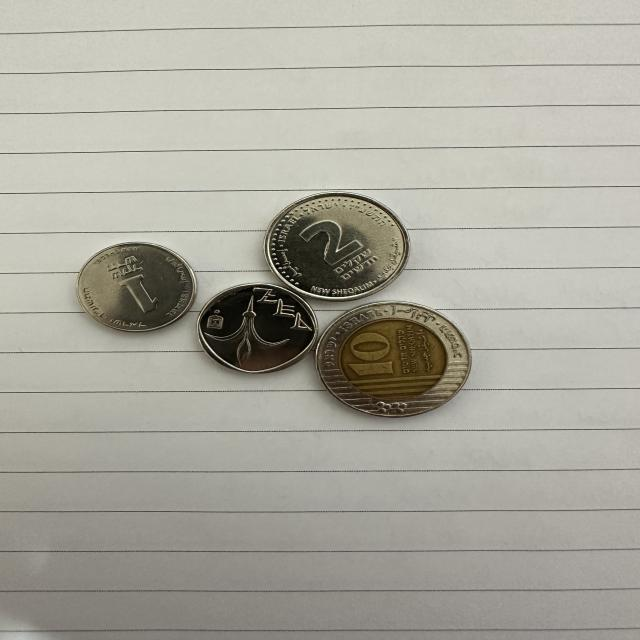1-shekel: (196, 284, 320, 379), (74, 242, 197, 335)
10-shekel: (312, 302, 471, 422)
2-shekel: (262, 190, 414, 302)
